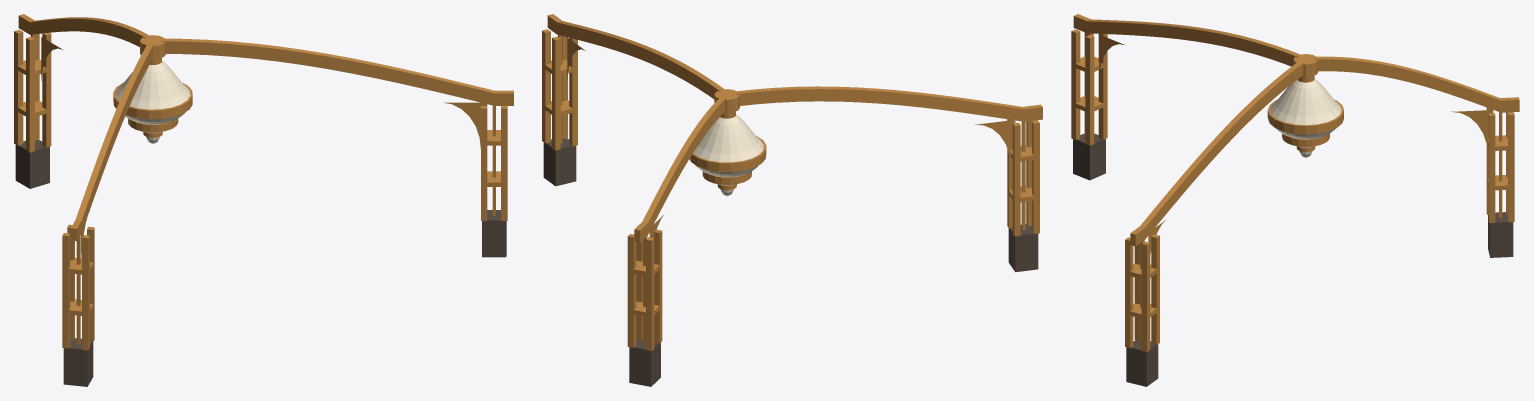
Rendered from cle-playhouse-square-chandelier.glb.
3 renders of one model, left to right at view 1: azimuth 30°, elevation 25°; view 2: azimuth 150°, elevation 25°; view 3: azimuth 270°, elevation 25°, orthographic. The views are drawn at different scales.
Visible parts, largest first — view 1: GE Chandelier, Playhouse Square; view 2: GE Chandelier, Playhouse Square; view 3: GE Chandelier, Playhouse Square.
Part boxes in pixels (bbox=[...]): GE Chandelier, Playhouse Square: bbox=[14, 14, 513, 386]; GE Chandelier, Playhouse Square: bbox=[542, 14, 1042, 386]; GE Chandelier, Playhouse Square: bbox=[1071, 14, 1519, 386].
Size of the model in its own units: 33.7 by 14.35 by 28.77.
